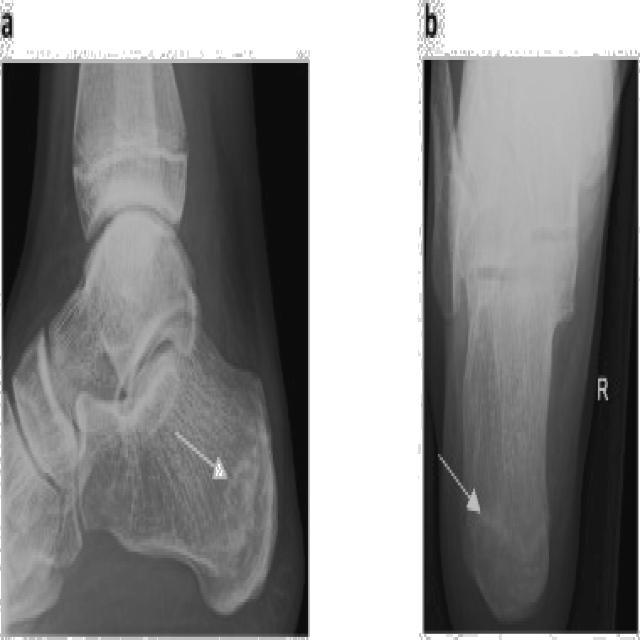HairLine Fracture: (220, 446, 260, 514), (477, 505, 505, 530)
